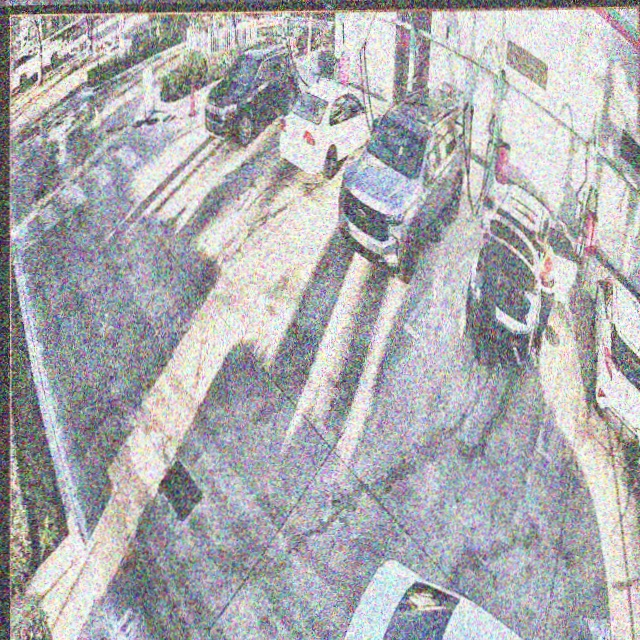Car: (338, 85, 470, 279), (468, 182, 575, 368), (279, 77, 380, 178)
